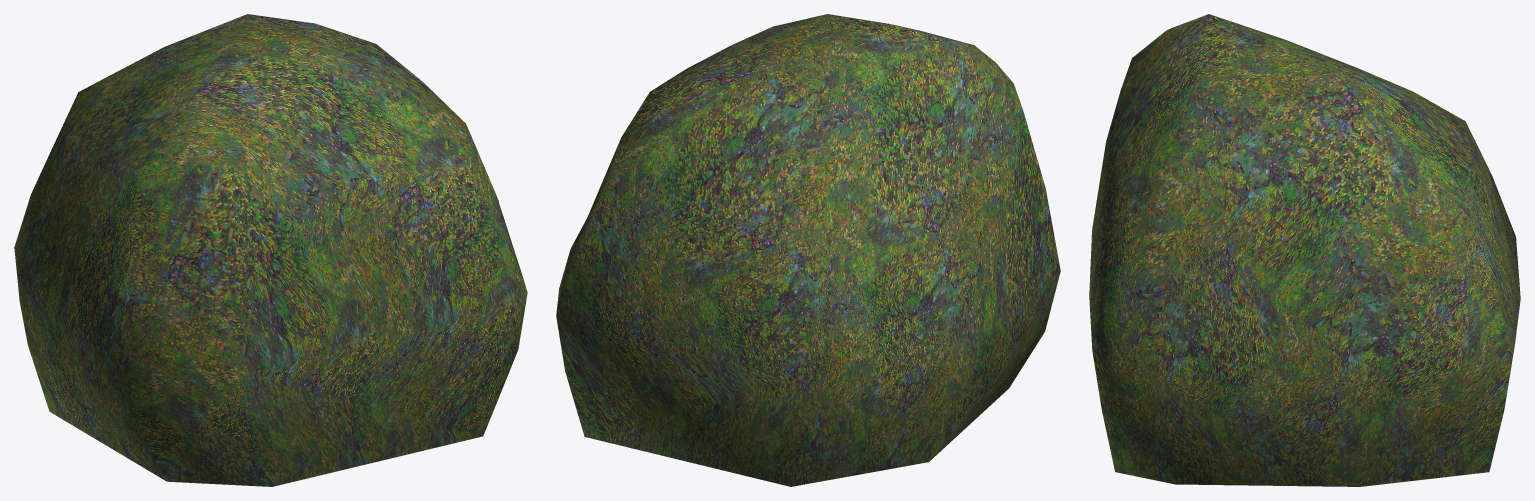
File: rock_mossy_small_a1_l0.fbx
The picture shows the model from 3 angles, left to right: view 1: azimuth 30°, elevation 25°; view 2: azimuth 150°, elevation 25°; view 3: azimuth 270°, elevation 25°; orthographic projection. The views are drawn at different scales.
Visible parts, largest first — view 1: mesh_node; view 2: mesh_node; view 3: mesh_node.
Boxes of the visible parts, x1,y1,x2,y2 form: mesh_node: (14, 14, 527, 486); mesh_node: (556, 14, 1060, 486); mesh_node: (1089, 14, 1520, 486).
Bounding box in the file's own units: 2 × 1.78 × 2.
